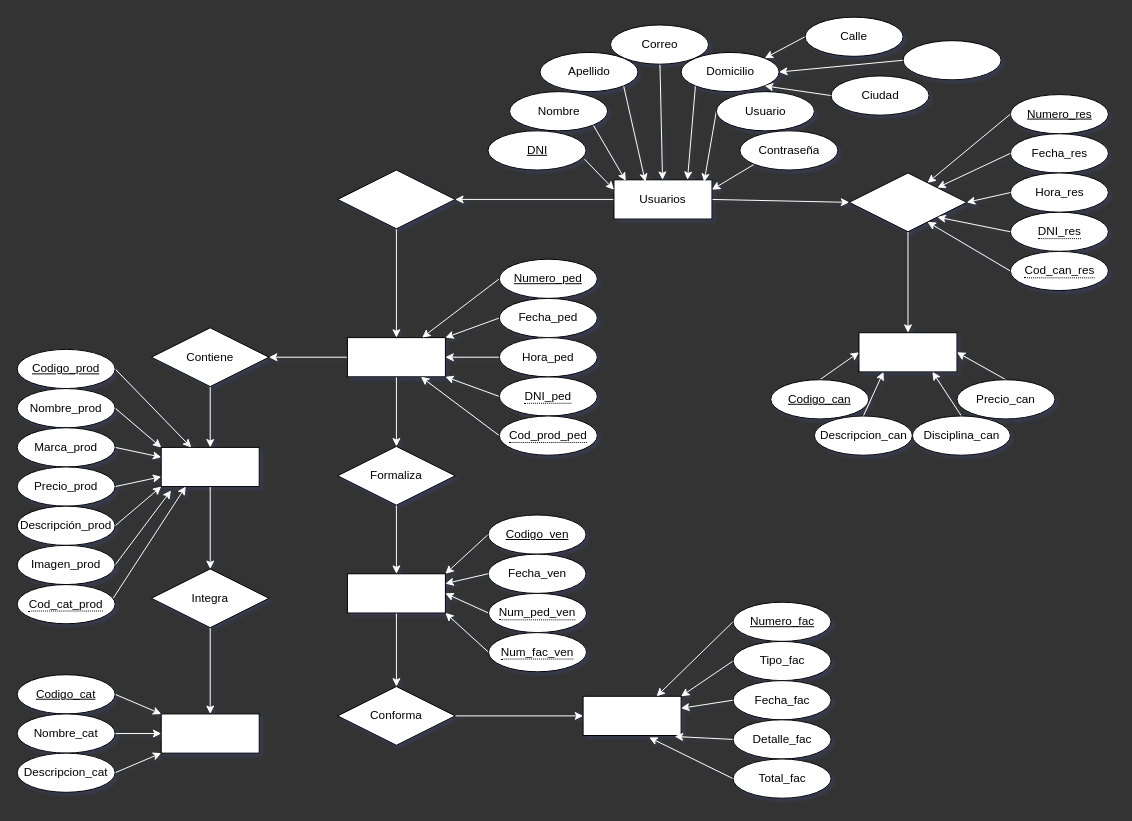
Some shapes in this 1132 by 821 pixel diagram are drawn without their labels. Each missing label, with the box of its shape:
Canchas: (858, 332, 957, 372)
Categorías: (160, 713, 259, 753)
Facturas: (582, 695, 681, 735)
Numero: (902, 40, 1001, 80)
Pedidos: (346, 337, 445, 377)
Productos: (160, 446, 259, 487)
Realiza: (337, 169, 455, 229)
Reserva: (848, 172, 967, 232)
Ventas: (346, 573, 445, 613)
